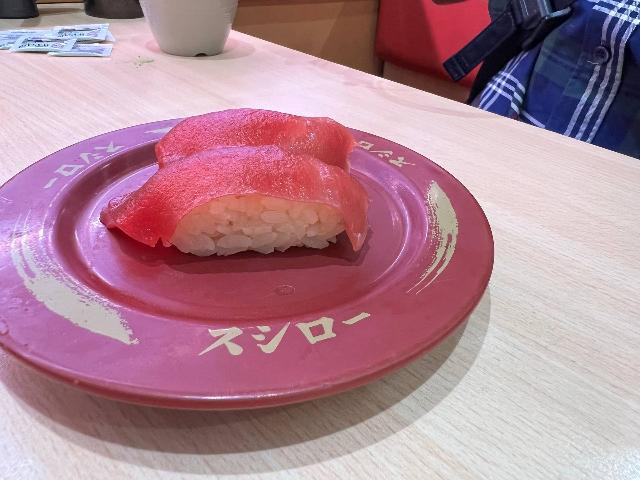janred: (20, 135, 473, 395)
